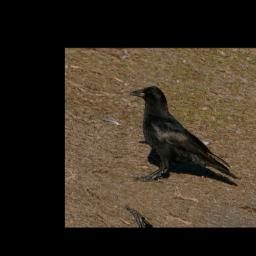Crow: (107, 79, 256, 209)
